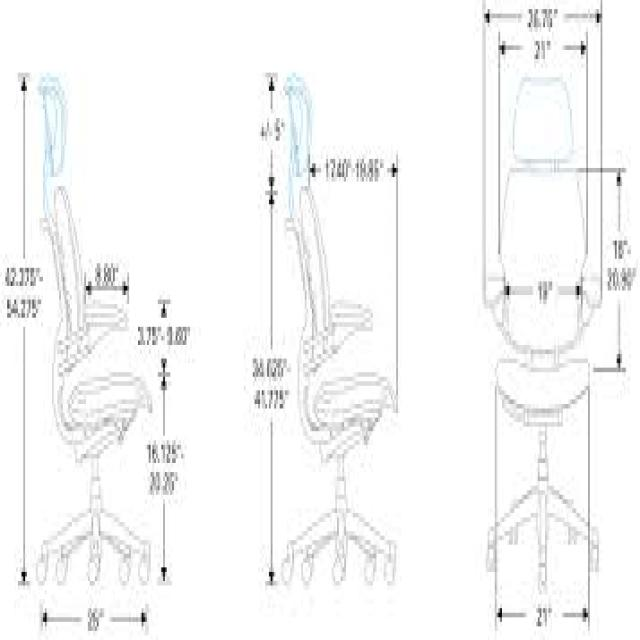chair: (452, 57, 624, 640), (277, 64, 410, 611), (31, 63, 158, 609)
